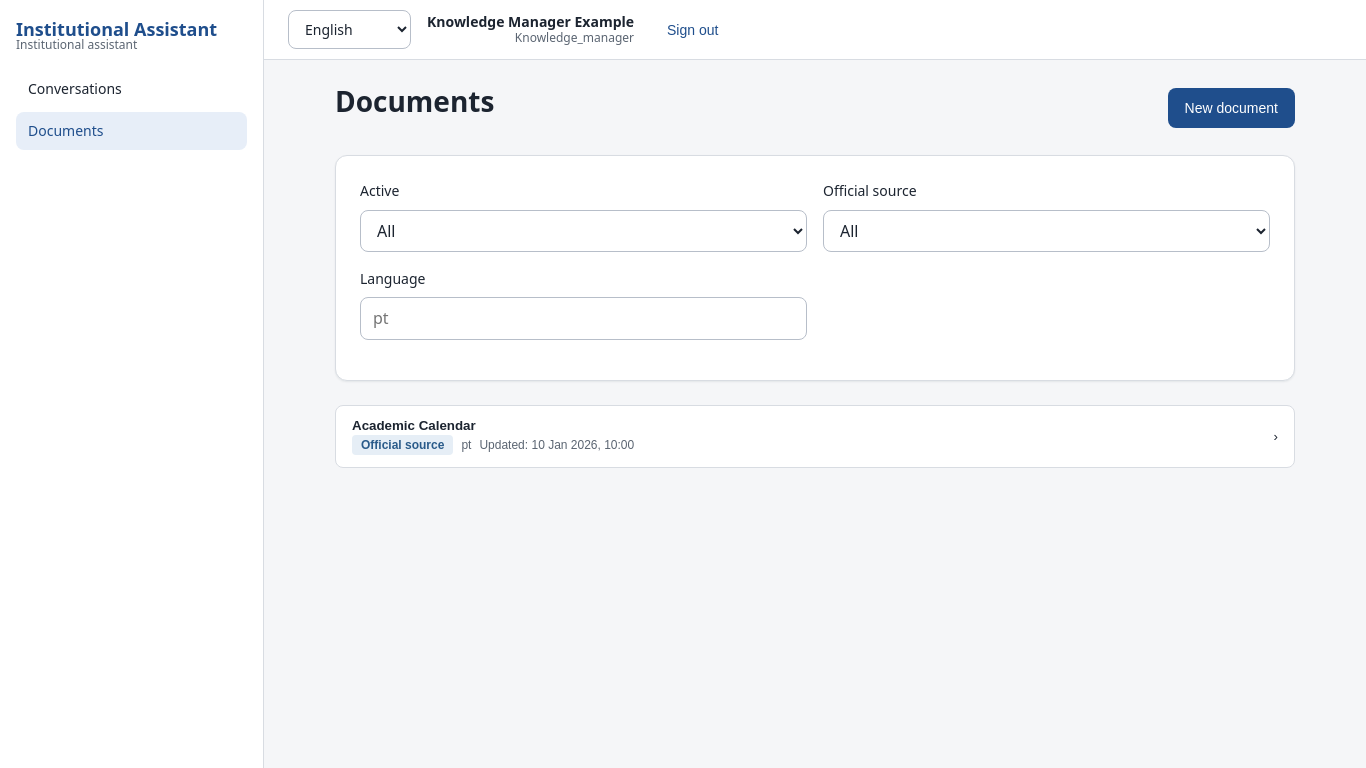
it: documents admin area › Save and New keeps the form open, resets fields and refocuses the title
Click the button "New document": {"x": 1231, "y": 108} [1168,88,1295,128]
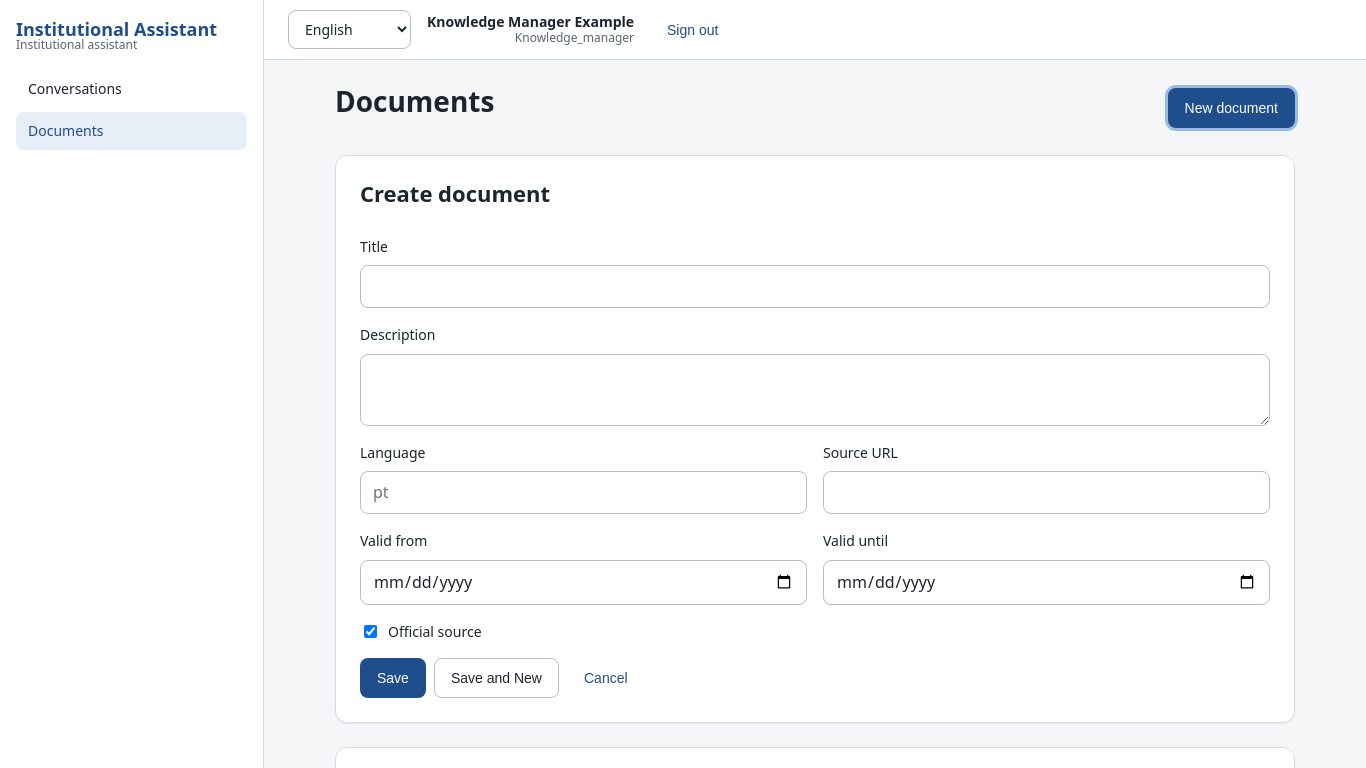
In the field labelled "Title": {"x": 815, "y": 287} [360,265,1270,308], type "First Regulation"
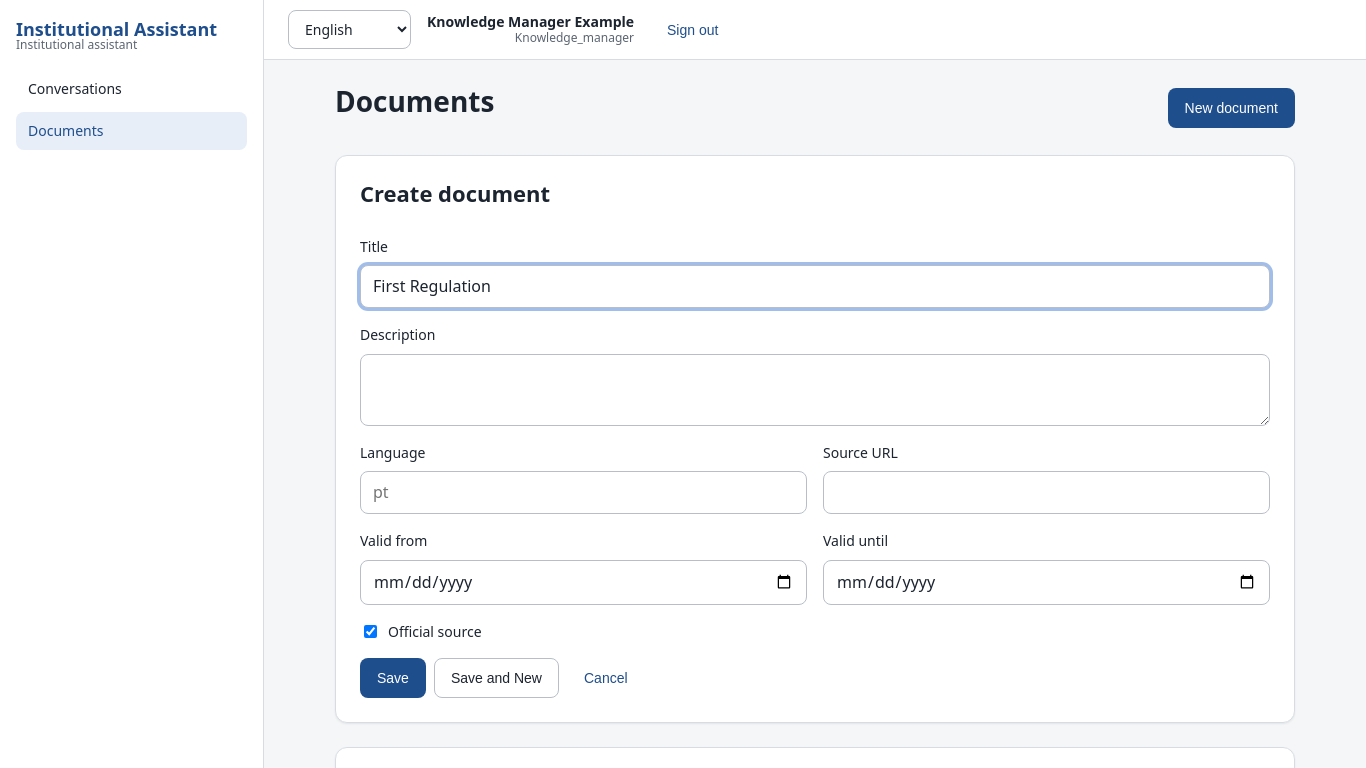
Click the checkbox labelled "Official source": {"x": 370, "y": 632} [364,625,377,638]
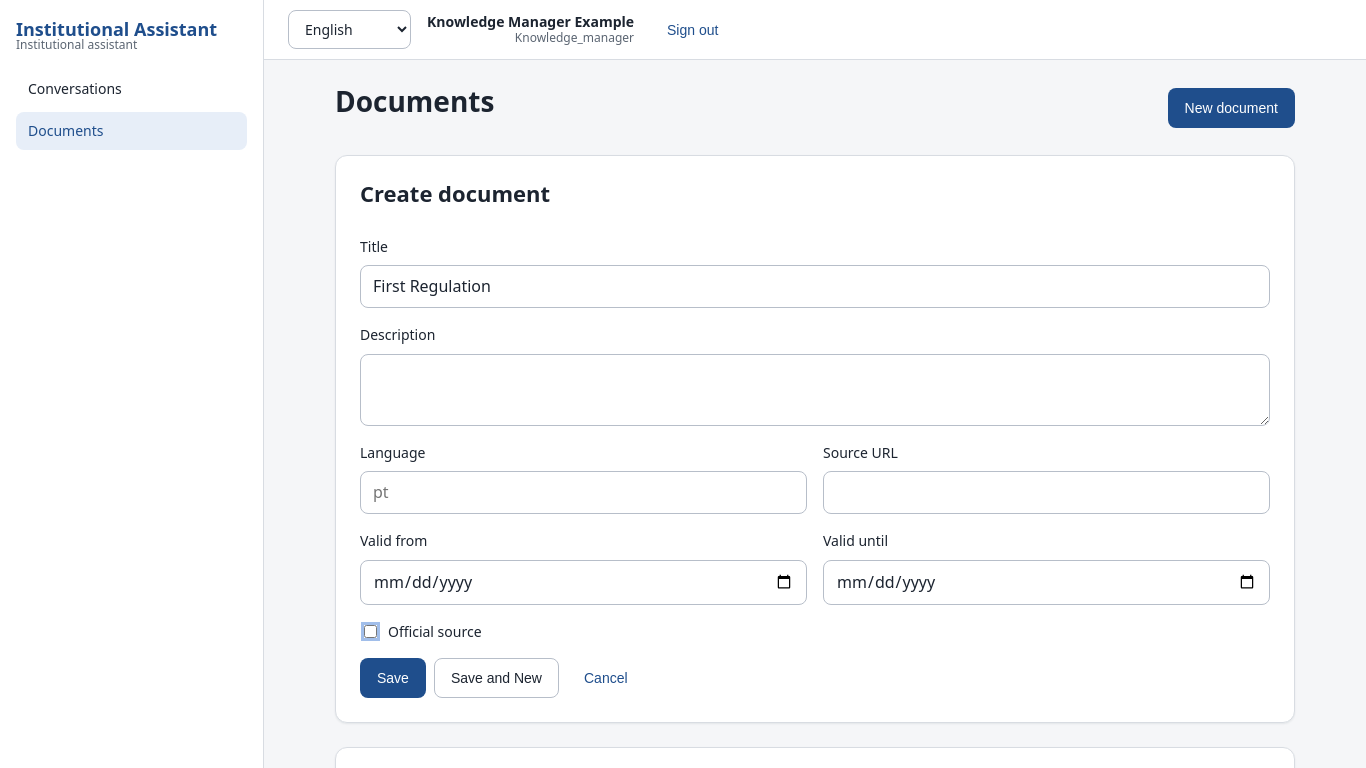
Expected: the checkbox labelled "Official source" is not checked, [364,625,377,638]
Click the button "Save and New": {"x": 496, "y": 678} [434,658,559,698]
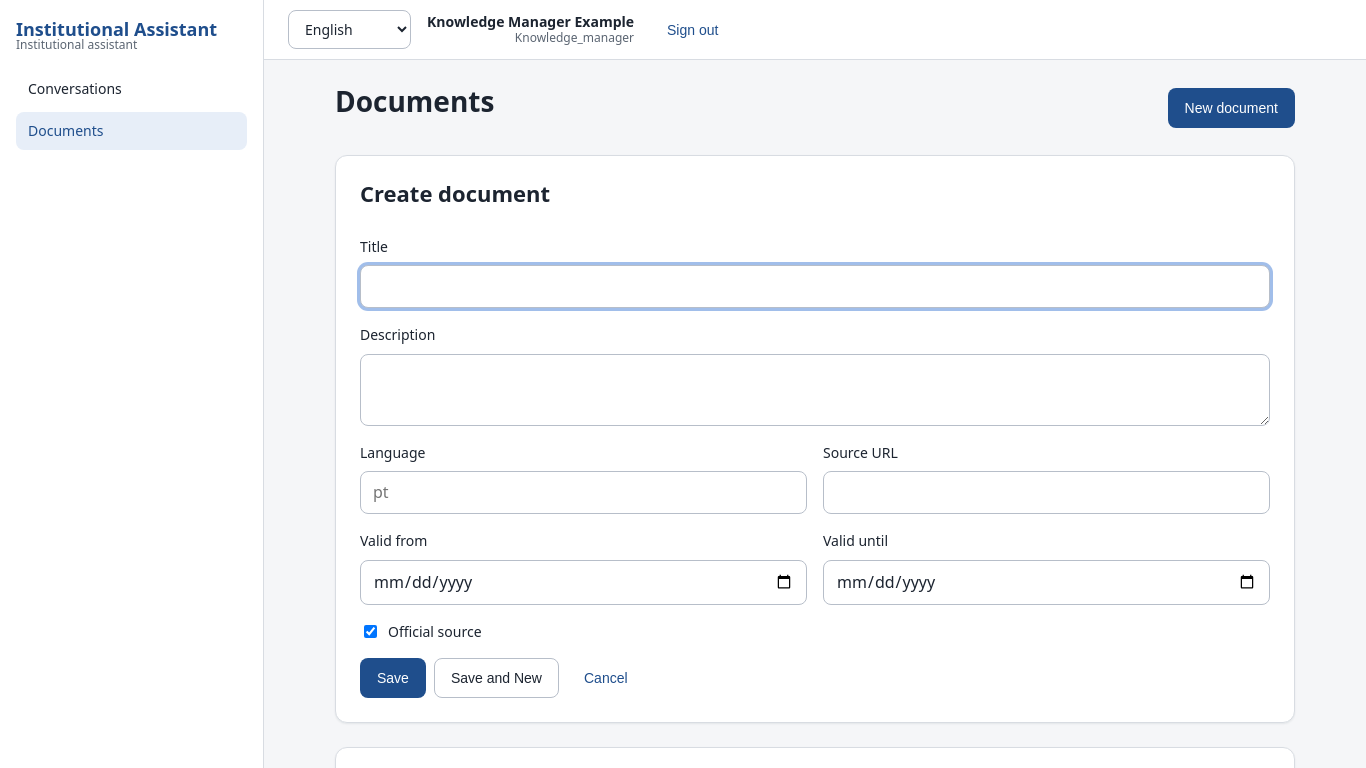
Expected: the checkbox labelled "Official source" is checked, [364,625,377,638]
Expected: the field labelled "Title" is empty, [360,265,1270,308]
